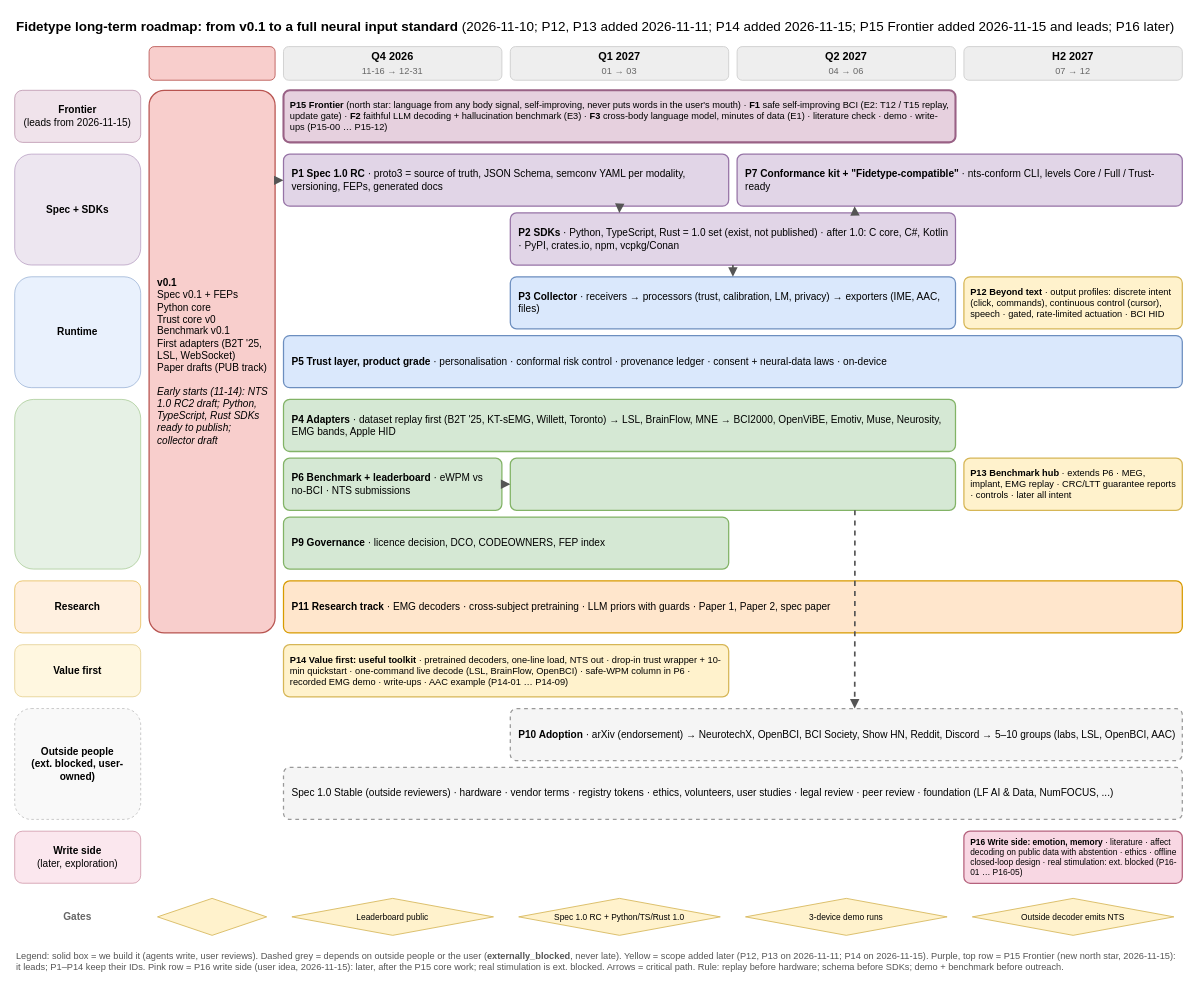
This 1198x988 diagram has some shape labels left out. Each missing label, with the centre of its shape:
"Ecosystem" belongs at point (77, 484).
"P8 Docs, website, demo · quickstarts · 3 devices → 1 stream → 1 trust layer" belongs at point (732, 484).
"v0.1 M0–M7, by 2026-11-15" belongs at point (211, 63).
"v0.1 tag" belongs at point (212, 916).
